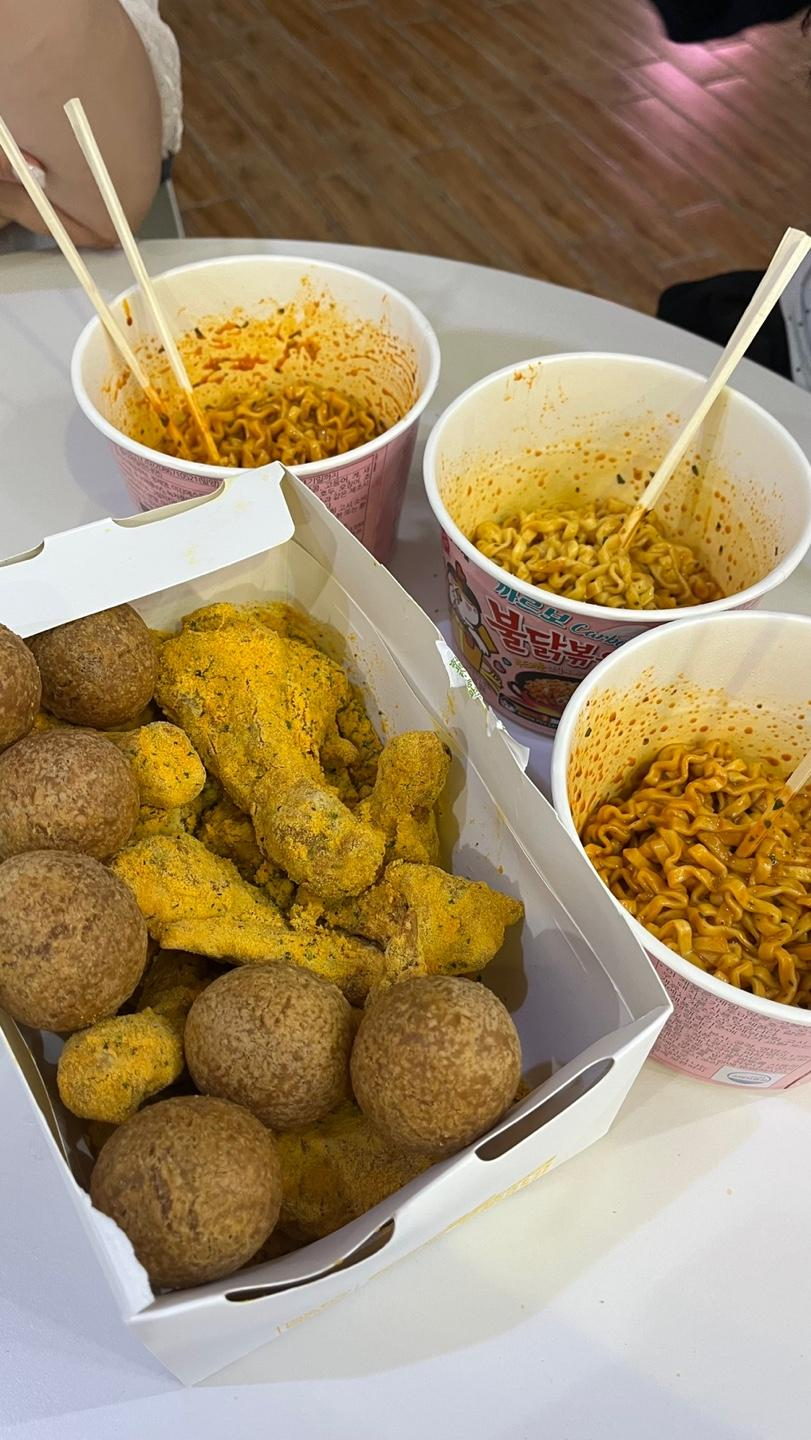Lunch Box: (0, 465, 670, 1383), (424, 354, 810, 734), (551, 611, 810, 1094), (154, 257, 439, 559)
